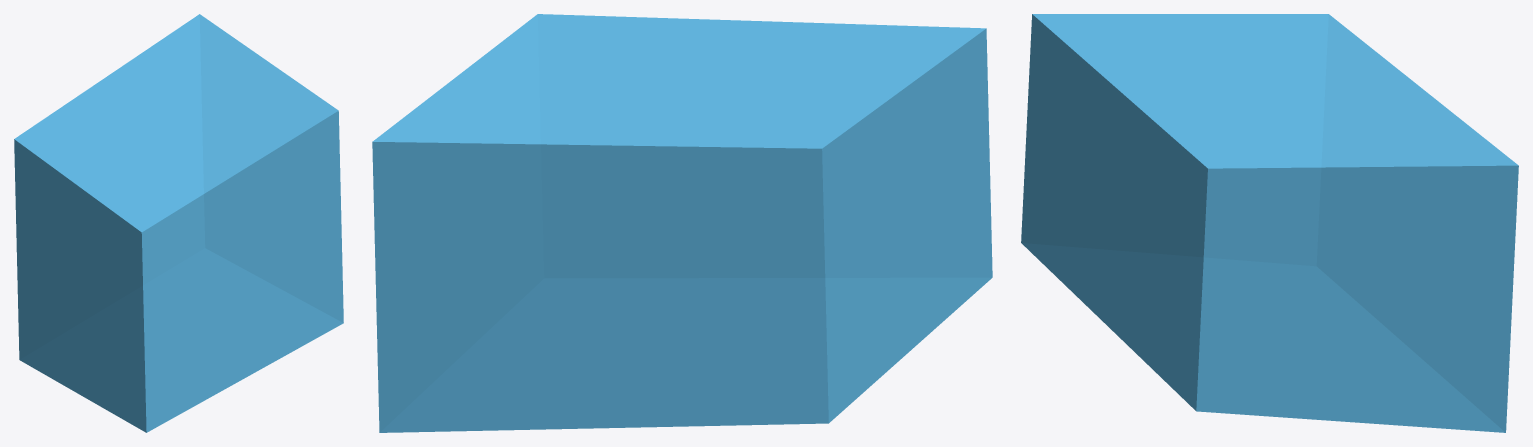
File: Event_420094457_HErechit_28.fbx
3 renders of one model, left to right at view 1: azimuth 30°, elevation 25°; view 2: azimuth 150°, elevation 25°; view 3: azimuth 270°, elevation 25°, orthographic. The views are drawn at different scales.
Parts seen in each view (by area): view 1: Model; view 2: Model; view 3: Model.
Boxes of the visible parts, x1=… form: Model: x1=14, y1=14, x2=343, y2=432; Model: x1=372, y1=14, x2=992, y2=432; Model: x1=1021, y1=14, x2=1518, y2=432.
Bounding box in the file's own units: 0.6316 × 0.5092 × 0.8592.
